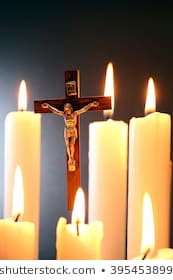Fire: (136, 184, 156, 259), (99, 60, 116, 119), (70, 182, 88, 231), (10, 163, 25, 219), (13, 75, 33, 113), (142, 75, 158, 118)
